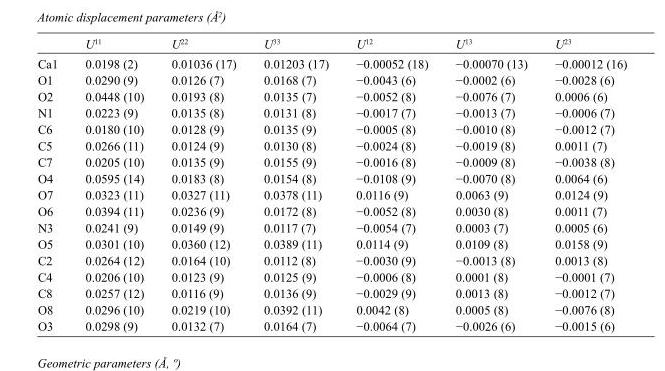table: (36, 36, 626, 332)
table column: (341, 36, 441, 332), (441, 36, 540, 332), (157, 36, 249, 332), (249, 36, 341, 332), (70, 36, 157, 332), (540, 36, 626, 332), (36, 36, 70, 332)
table column header: (36, 36, 626, 53)
table row: (36, 53, 626, 71), (36, 36, 626, 53), (36, 71, 626, 88), (36, 120, 626, 137), (36, 153, 626, 170), (36, 202, 626, 219), (36, 235, 626, 252), (36, 284, 626, 301), (36, 88, 626, 104), (36, 104, 626, 120), (36, 137, 626, 153), (36, 170, 626, 186), (36, 186, 626, 202), (36, 219, 626, 235), (36, 252, 626, 268), (36, 268, 626, 284), (36, 301, 626, 317), (36, 317, 626, 332)
